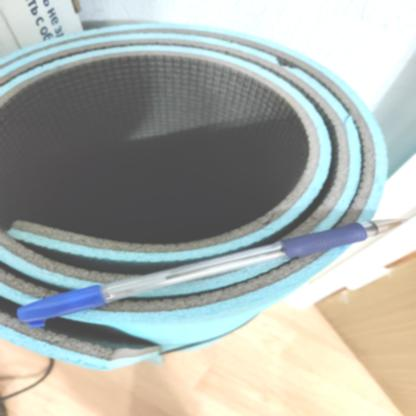pen: (22, 203, 409, 336)
